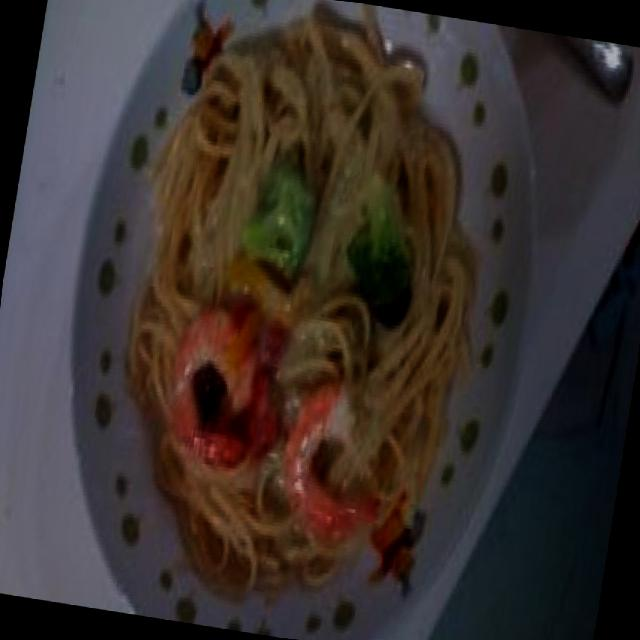Pasta: (100, 0, 510, 583)
